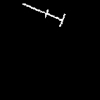double_crochet: (23, 4, 64, 25)
